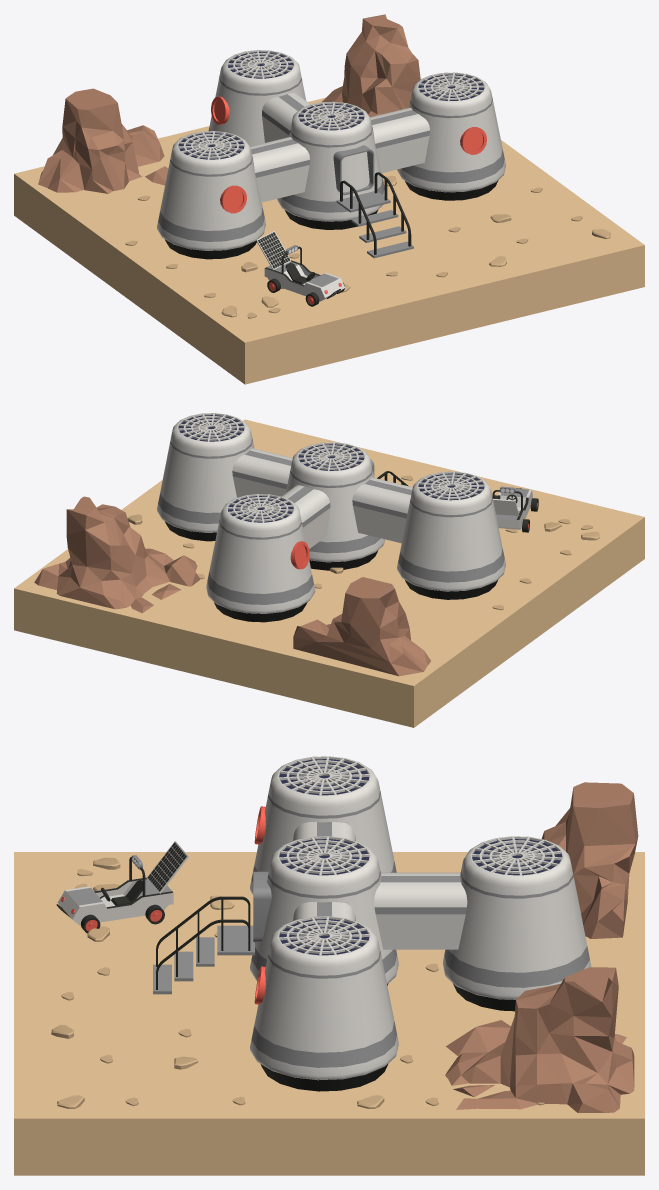
Rendered from 00 Space_10.FBX.
3 views of the same model, one above another, from view 1: azimuth 30°, elevation 25°; view 2: azimuth 150°, elevation 25°; view 3: azimuth 270°, elevation 25° (orthographic). The views are drawn at different scales.
Parts seen in each view (by area): view 1: Base, Space_house, Mountain_1, Mountain_2, Space_buggy; view 2: Base, Space_house, Mountain_2, Mountain_1, Space_buggy; view 3: Base, Space_house, Mountain_2, Mountain_1, Space_buggy.
Boxes of the visible parts, left/top/right/bottom form: Base: left=14, top=97, right=644, bottom=384; Space_house: left=157, top=50, right=505, bottom=259; Mountain_1: left=38, top=88, right=168, bottom=193; Mountain_2: left=322, top=14, right=420, bottom=117; Space_buggy: left=256, top=231, right=344, bottom=306; Base: left=14, top=419, right=644, bottom=727; Space_house: left=157, top=413, right=505, bottom=622; Mountain_2: left=34, top=496, right=200, bottom=613; Mountain_1: left=293, top=577, right=430, bottom=676; Space_buggy: left=492, top=486, right=538, bottom=532; Base: left=14, top=852, right=644, bottom=1175; Space_house: left=153, top=756, right=591, bottom=1091; Mountain_2: left=445, top=967, right=634, bottom=1112; Mountain_1: left=541, top=782, right=638, bottom=938; Space_buggy: left=56, top=841, right=188, bottom=933.
Bounding box in the file's own units: 10000 × 3263 × 10000.
